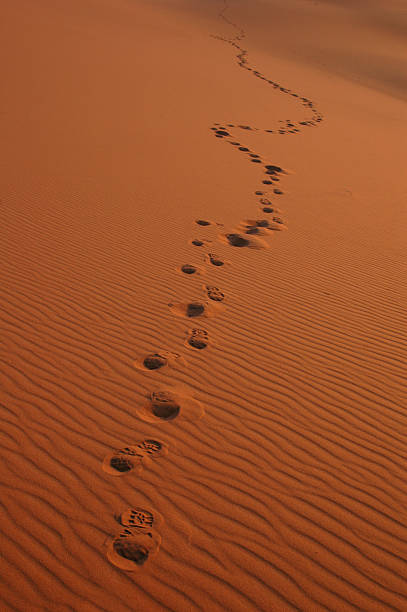human_footprint: (102, 438, 167, 475), (107, 527, 160, 570), (137, 388, 203, 422), (235, 147, 293, 181), (223, 222, 274, 258), (115, 506, 162, 530), (133, 350, 184, 371), (169, 300, 220, 318), (257, 187, 284, 216), (186, 328, 209, 350), (204, 285, 224, 301)
